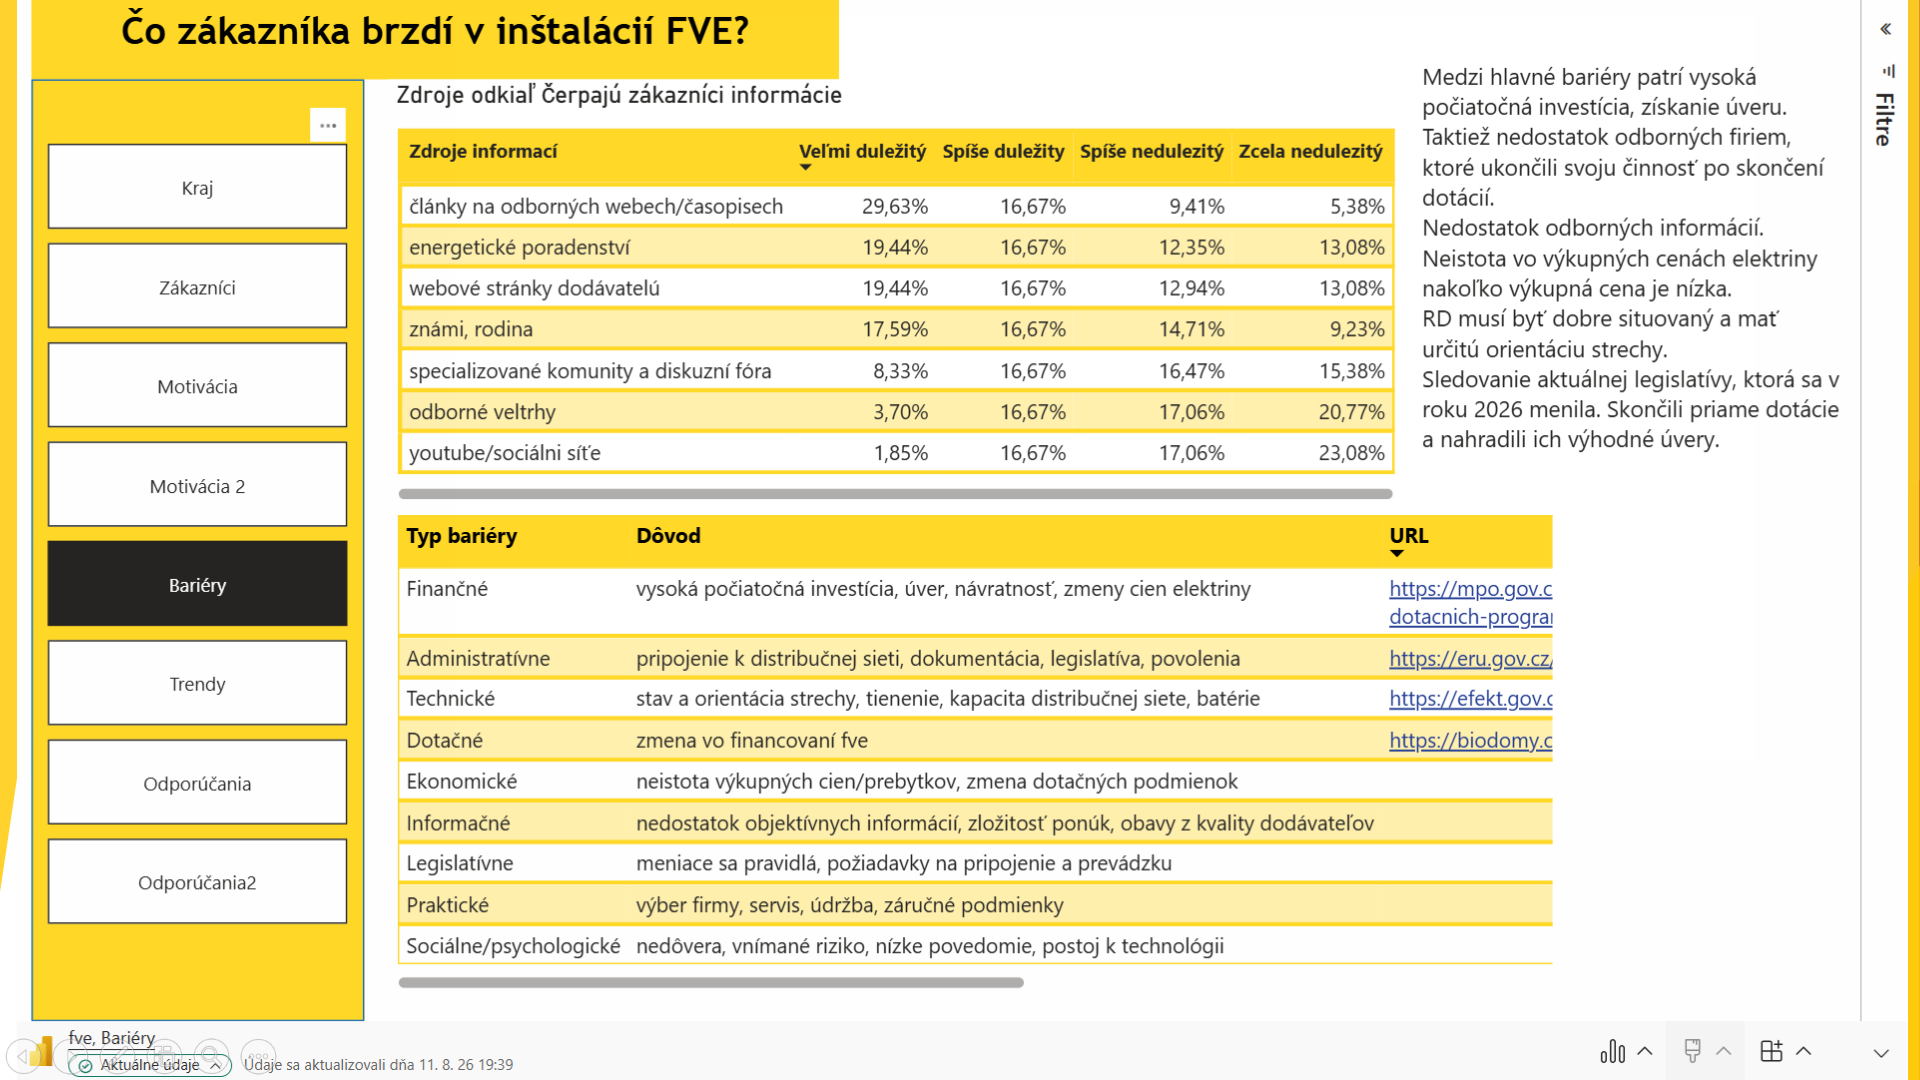

Layout of this report page (visuals, bound fields, positions):
{"tool":"powerbi","page":{"name":"Bariéry","canvas":[1280,720],"ordinal":4},"visuals":[{"type":"textbox","box":[0,0,569.5,56.3],"z":0},{"type":"shape","box":[0,56.3,234.6,664.2],"z":1000},{"type":"tableEx","title":"Zdroje odkiaľ čerpajú zákazníci informácie","fields":{"Values":["Zdroje informací.Zdroje informací","Sum(Zdroje informací.Veľmi duležitý)","Sum(Zdroje informací.Spíše duležity)","Sum(Zdroje informací.Spíše nedulezitý)","Sum(Zdroje informací.Zcela nedulezitý)"]},"box":[252.5,56.3,713.6,301.9],"z":6000},{"type":"tableEx","title":"Typ bariér","fields":{"Values":["url.Typ bariéry","url.Dôvod","url.URL"]},"box":[252.5,358.1,824.7,344.4],"z":8000},{"type":"textbox","box":[975.6,37,304.6,301.9],"z":9000},{"type":"pageNavigator","box":[11.4,101.4,211.4,551.4],"z":9001}]}

Visuals, with their boxes on the page's 1280x720 design canvas (x1, y1, x2, y2). These are canvas units, not pixel positions in the 1920x1080 screenshot, which may show the page scaled, cropped or inside an application window:
textbox: x1=0, y1=0, x2=570, y2=56
shape: x1=0, y1=56, x2=235, y2=720
"Zdroje odkiaľ čerpajú zákazníci informácie" tableEx: x1=252, y1=56, x2=966, y2=358
"Typ bariér" tableEx: x1=252, y1=358, x2=1077, y2=702
textbox: x1=976, y1=37, x2=1280, y2=339
pageNavigator: x1=11, y1=101, x2=223, y2=653
